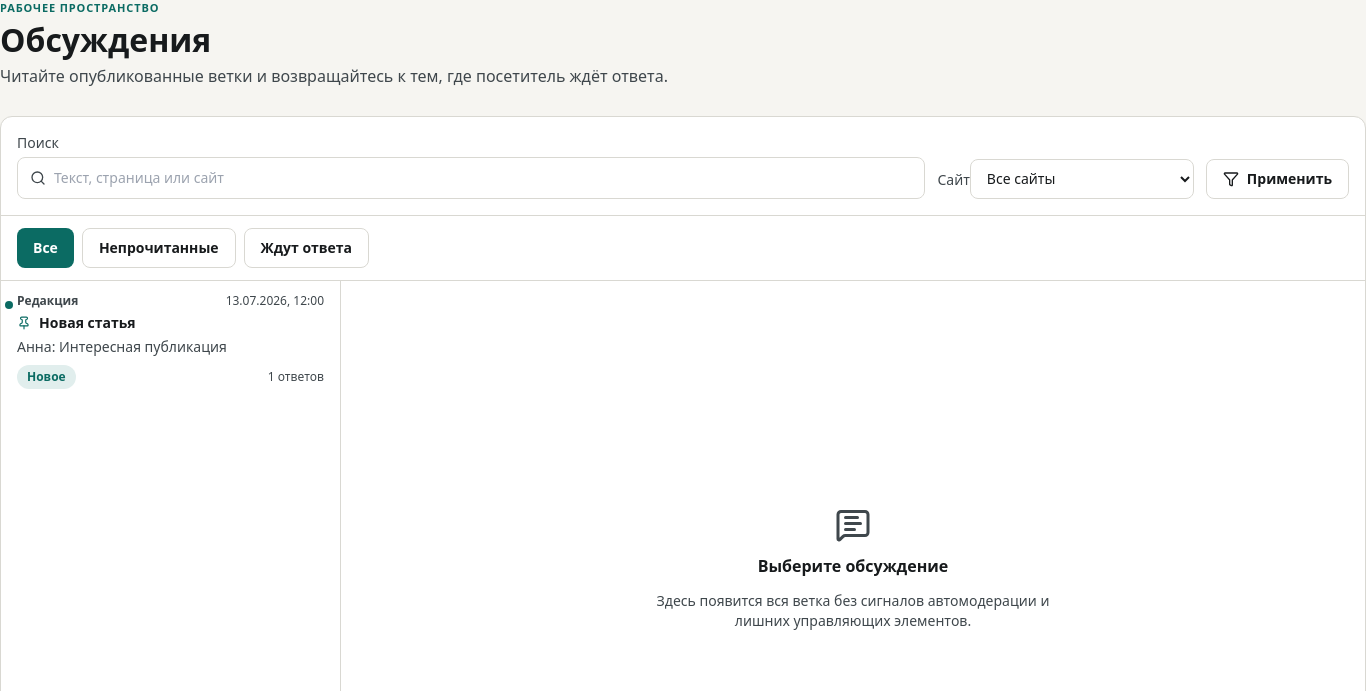
Test: страница обсуждений › выбирает обсуждение из master-списка и сохраняет выбор в URL
Click the button with aria-label "Открыть обсуждение: Новая статья": [170, 341] box 1,281 -> 340,401
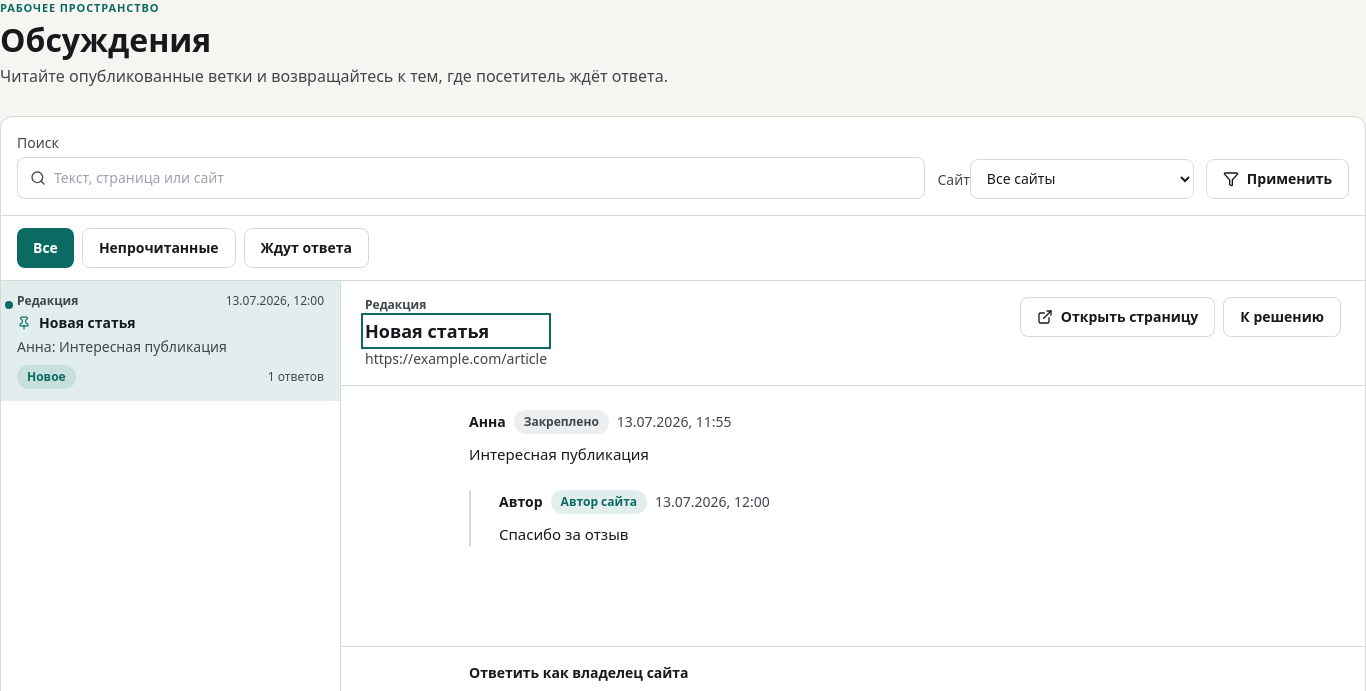
Check: the text "Спасибо за отзыв" is shown, box 499,524 -> 628,544
